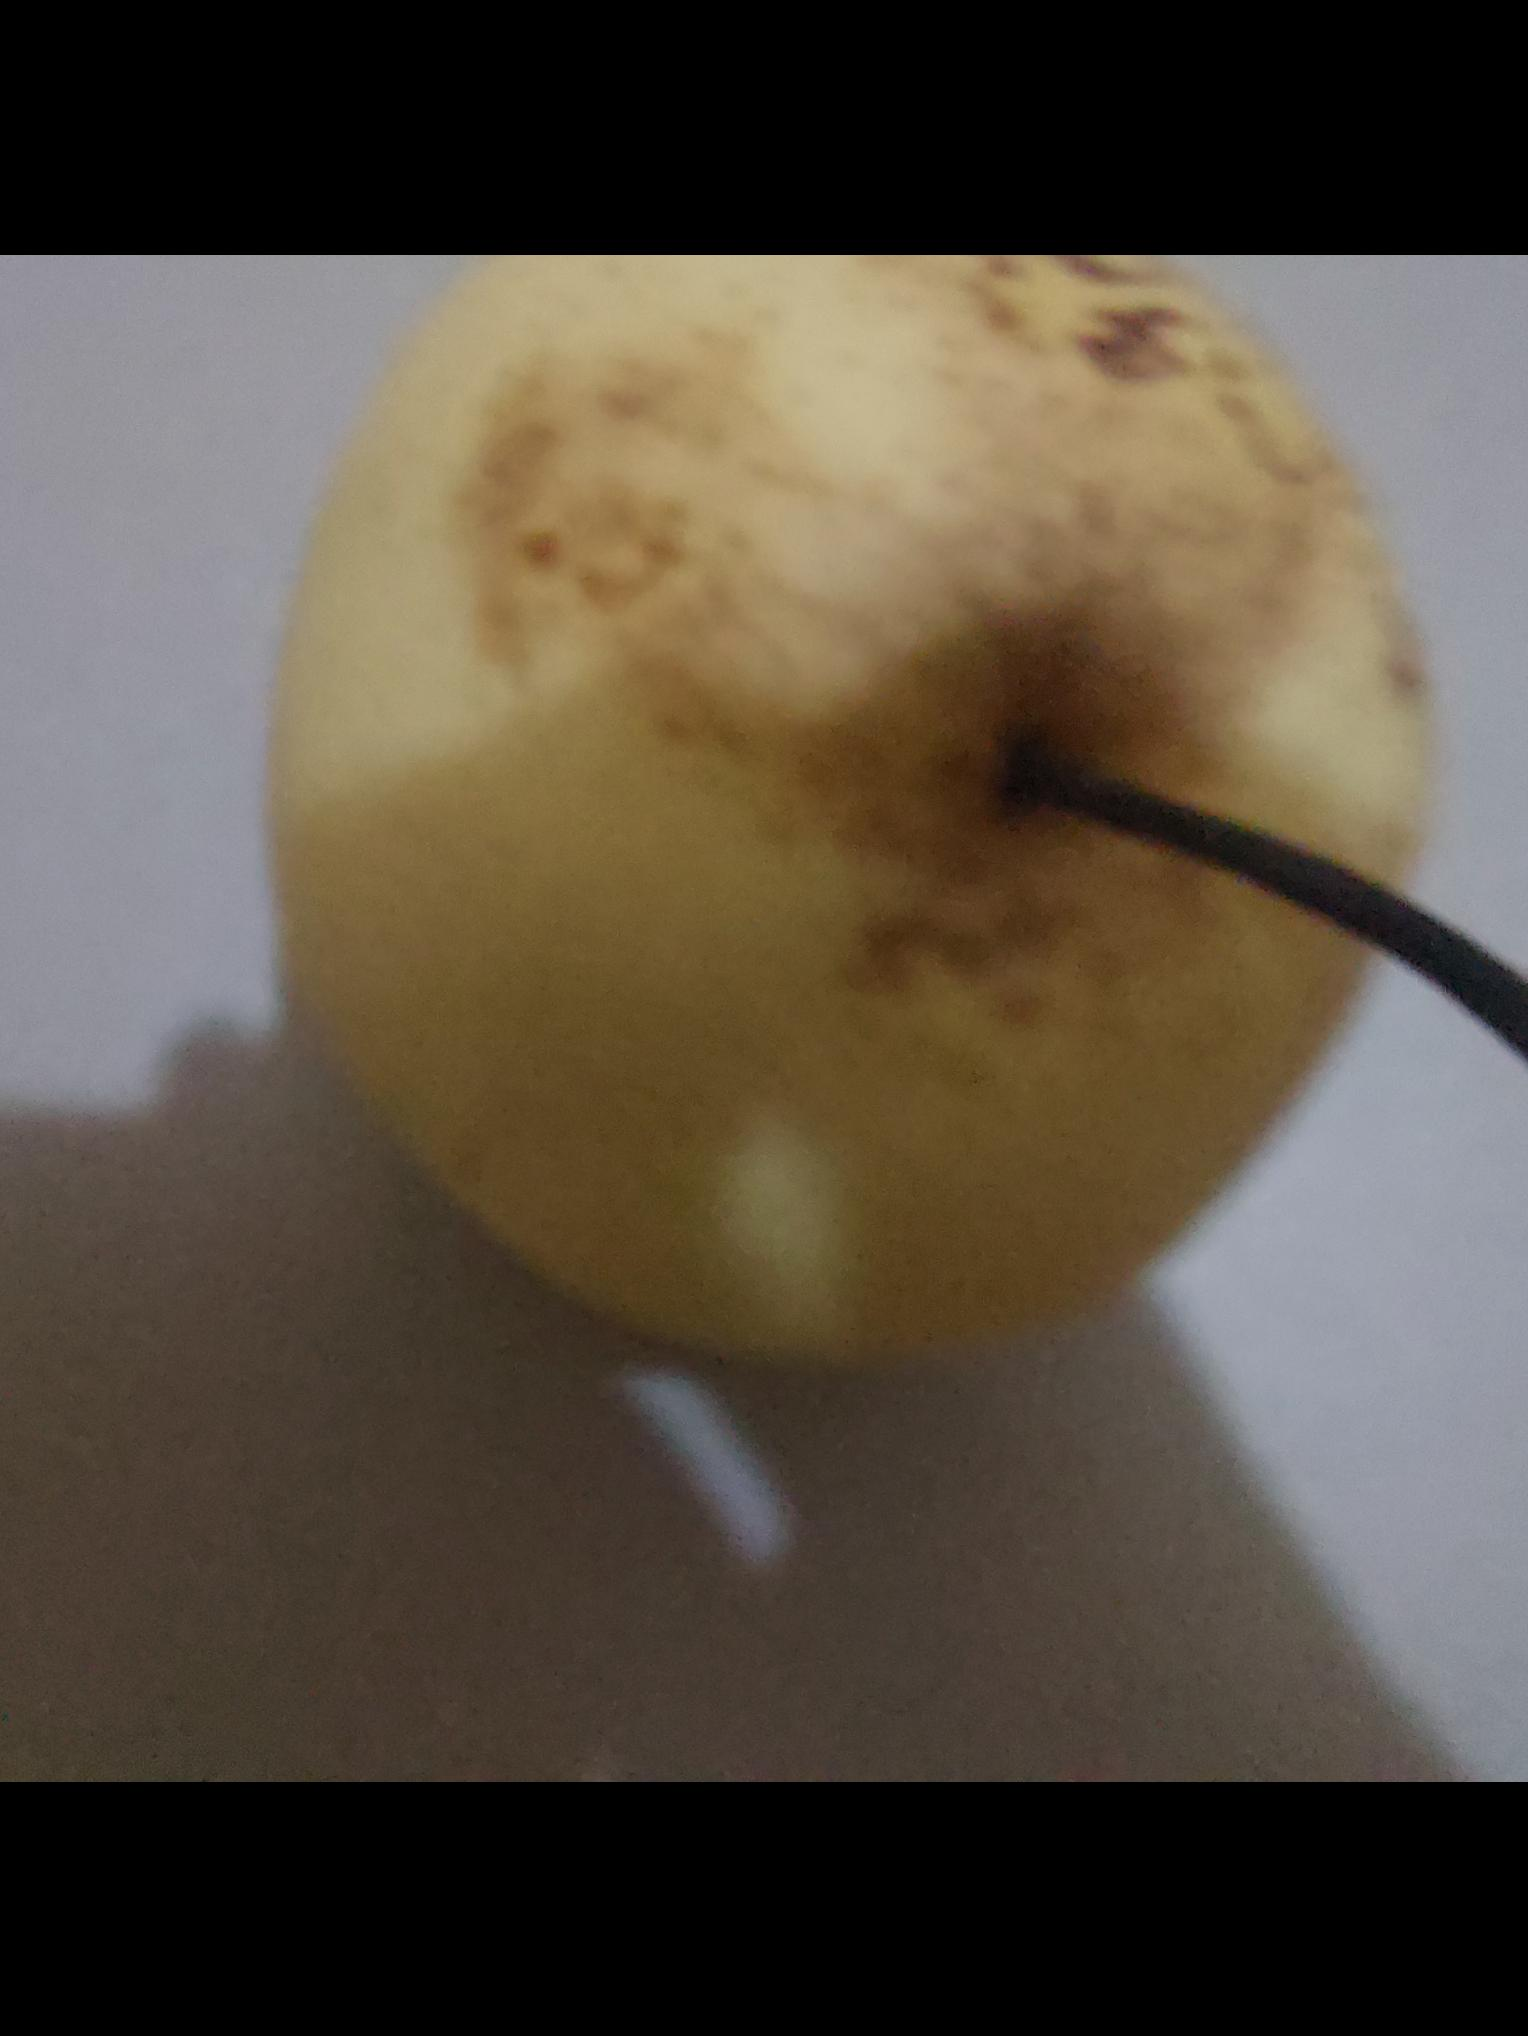Bad Pear: (266, 253, 1433, 1361)
